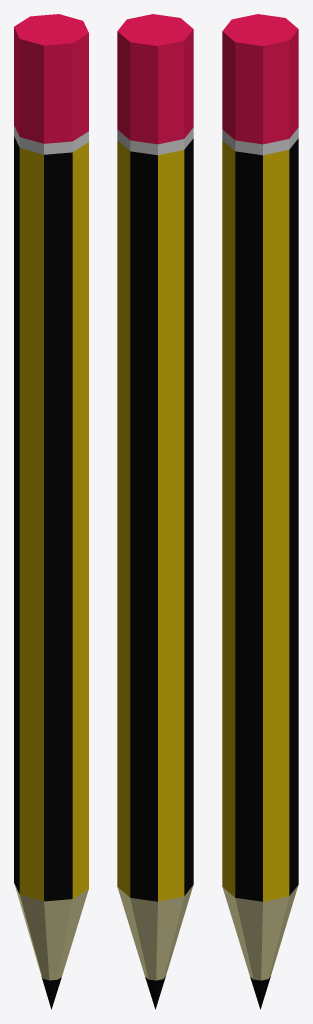
File: uploads_files_783348_pencillowpoly.fbx
The picture shows the model from 3 angles, left to right: view 1: azimuth 90°, elevation 25°; view 2: azimuth 150°, elevation 25°; view 3: azimuth 330°, elevation 25°; orthographic projection.
Parts seen in each view (by area): view 1: Pencil; view 2: Pencil; view 3: Pencil.
Boxes of the visible parts, <box> form: Pencil: <box>14,14,88,1009</box>; Pencil: <box>117,14,193,1009</box>; Pencil: <box>222,14,298,1009</box>.
Bounding box in the file's own units: 196 × 2829 × 196.
